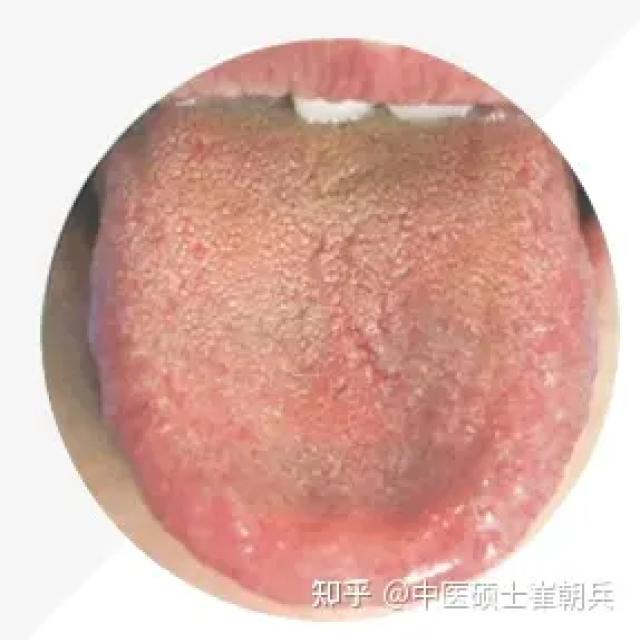tongue: (94, 130, 595, 579)
